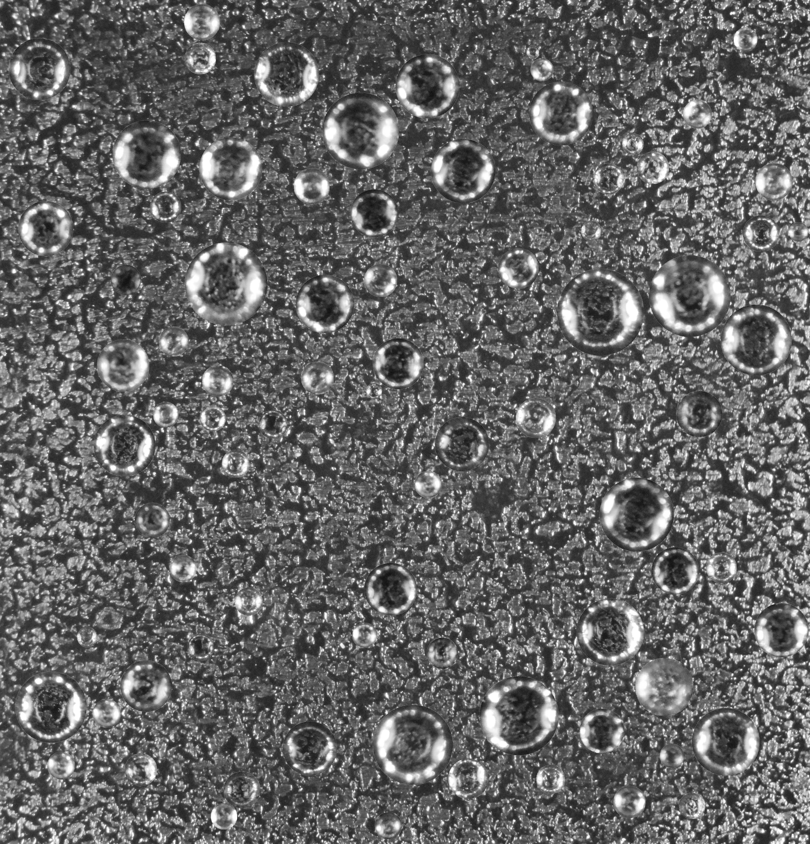Bubble: (557, 268, 643, 355), (184, 242, 267, 325), (649, 255, 730, 336), (372, 704, 452, 784), (479, 676, 558, 755), (322, 92, 398, 169), (599, 477, 673, 551), (15, 671, 86, 742), (721, 304, 791, 375), (112, 120, 180, 188), (692, 708, 759, 775), (576, 598, 643, 665), (431, 138, 495, 203), (395, 54, 459, 118), (254, 42, 318, 106), (529, 81, 592, 145), (199, 137, 262, 200), (93, 414, 155, 476), (8, 38, 70, 99), (295, 274, 354, 333), (635, 658, 693, 715), (18, 201, 73, 256), (435, 417, 489, 471), (754, 603, 808, 657), (282, 721, 336, 775), (97, 339, 149, 391), (364, 563, 416, 615), (120, 660, 171, 711), (372, 338, 423, 389), (350, 189, 398, 237), (651, 547, 698, 594), (676, 391, 722, 437), (579, 708, 624, 753), (498, 248, 538, 288), (448, 758, 488, 798), (516, 398, 555, 437), (755, 163, 792, 200), (223, 771, 260, 808), (293, 168, 329, 204), (743, 215, 779, 251), (184, 4, 219, 39), (134, 502, 169, 537), (364, 263, 397, 296), (301, 361, 333, 394), (636, 151, 669, 183), (124, 753, 156, 785), (613, 786, 645, 818), (184, 42, 215, 74), (426, 637, 457, 668), (202, 365, 233, 396), (150, 191, 181, 222), (706, 552, 736, 583), (593, 163, 623, 194), (110, 264, 140, 294), (158, 326, 188, 356), (536, 765, 565, 793), (683, 99, 711, 128), (258, 410, 287, 438), (234, 587, 262, 615), (92, 699, 120, 727), (221, 449, 249, 477), (47, 752, 74, 779), (169, 555, 196, 582), (374, 812, 401, 839), (414, 471, 441, 497), (679, 792, 705, 819), (210, 803, 237, 829), (199, 405, 225, 431), (187, 634, 213, 660), (352, 622, 377, 647), (153, 402, 178, 427), (660, 743, 684, 767), (733, 27, 757, 51), (530, 58, 553, 81), (622, 133, 643, 154), (581, 220, 601, 241), (77, 627, 97, 647), (789, 222, 808, 241), (366, 383, 382, 398), (526, 45, 539, 58)
